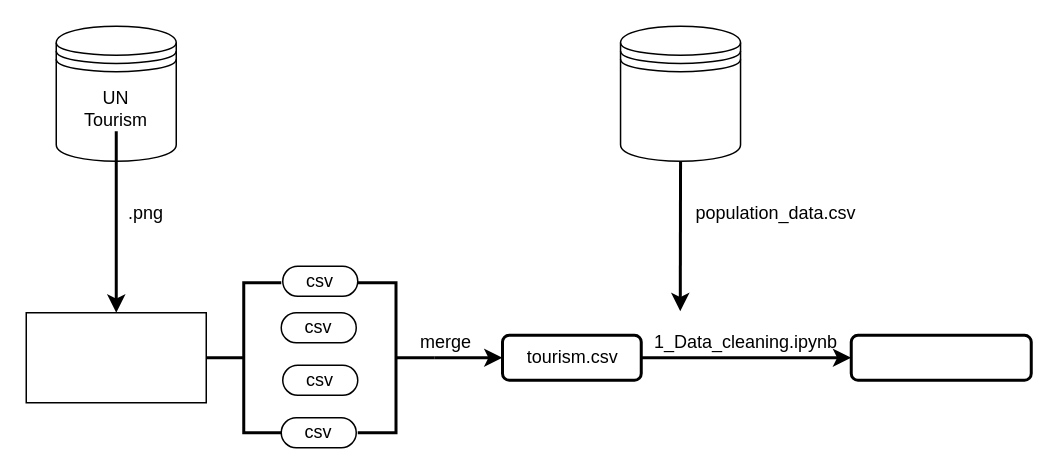
Image size: 1059x474. Some labels were removed from this diagram. The centre of each missing label's shape, as x and y in pixels:
0_Data_extraction.ipynb: pixel 115 357
toutism_clean.csv: pixel 940 357
World Bank Data: pixel 680 93
